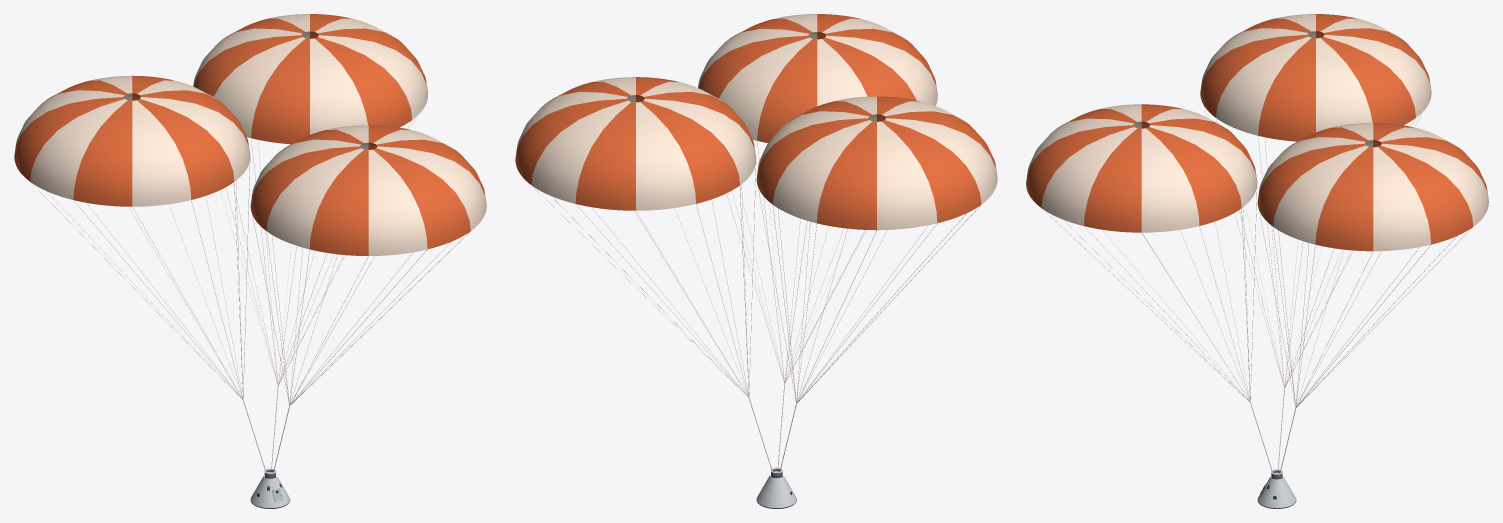
File: apollo_cm_recovery.glb
3 renders of one model, left to right at view 1: azimuth 30°, elevation 25°; view 2: azimuth 150°, elevation 25°; view 3: azimuth 270°, elevation 25°, orthographic. The views are drawn at different scales.
Parts seen in each view (by area): view 1: apollo_cm.parachutes.main_03.mesh, apollo_cm.parachutes.main_01.mesh, apollo_cm.parachutes.main_02.mesh, apollo_cm.skin.mesh; view 2: apollo_cm.parachutes.main_02.mesh, apollo_cm.parachutes.main_03.mesh, apollo_cm.parachutes.main_01.mesh, apollo_cm.skin.mesh; view 3: apollo_cm.parachutes.main_01.mesh, apollo_cm.parachutes.main_02.mesh, apollo_cm.parachutes.main_03.mesh, apollo_cm.skin.mesh.
Boxes of the visible parts, x1,y1,x2,y2 form: apollo_cm.parachutes.main_03.mesh: [14, 75, 250, 399]; apollo_cm.parachutes.main_01.mesh: [250, 125, 486, 405]; apollo_cm.parachutes.main_02.mesh: [193, 14, 427, 385]; apollo_cm.skin.mesh: [250, 476, 289, 507]; apollo_cm.parachutes.main_02.mesh: [515, 77, 756, 397]; apollo_cm.parachutes.main_03.mesh: [756, 96, 997, 403]; apollo_cm.parachutes.main_01.mesh: [698, 14, 937, 383]; apollo_cm.skin.mesh: [756, 475, 796, 507]; apollo_cm.parachutes.main_01.mesh: [1026, 104, 1257, 402]; apollo_cm.parachutes.main_02.mesh: [1257, 123, 1488, 407]; apollo_cm.parachutes.main_03.mesh: [1200, 14, 1431, 388]; apollo_cm.skin.mesh: [1257, 477, 1296, 508].
Size of the model in its own units: 46.79 by 45.69 by 46.52.
